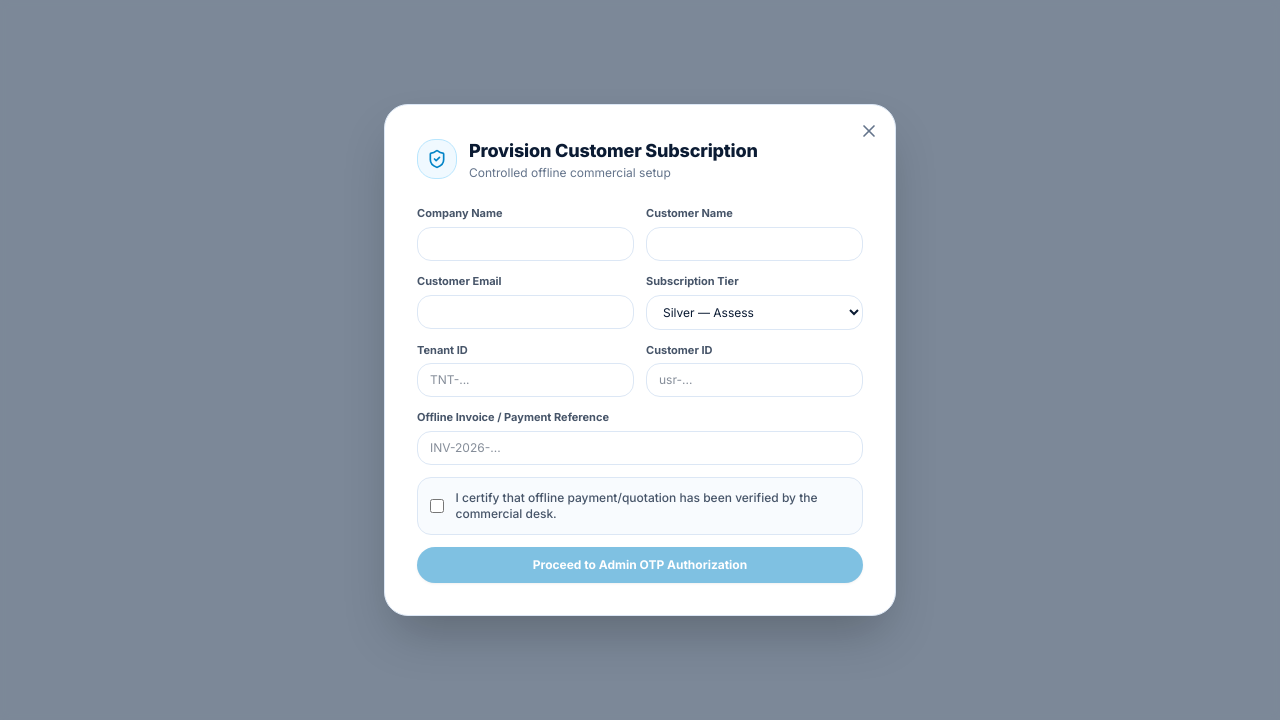
Test case: ProvisionSubscriptionModal Component › handles OTP request failure with message and non-Error throw
Click the checkbox at (437, 506), box [430,498,444,514]
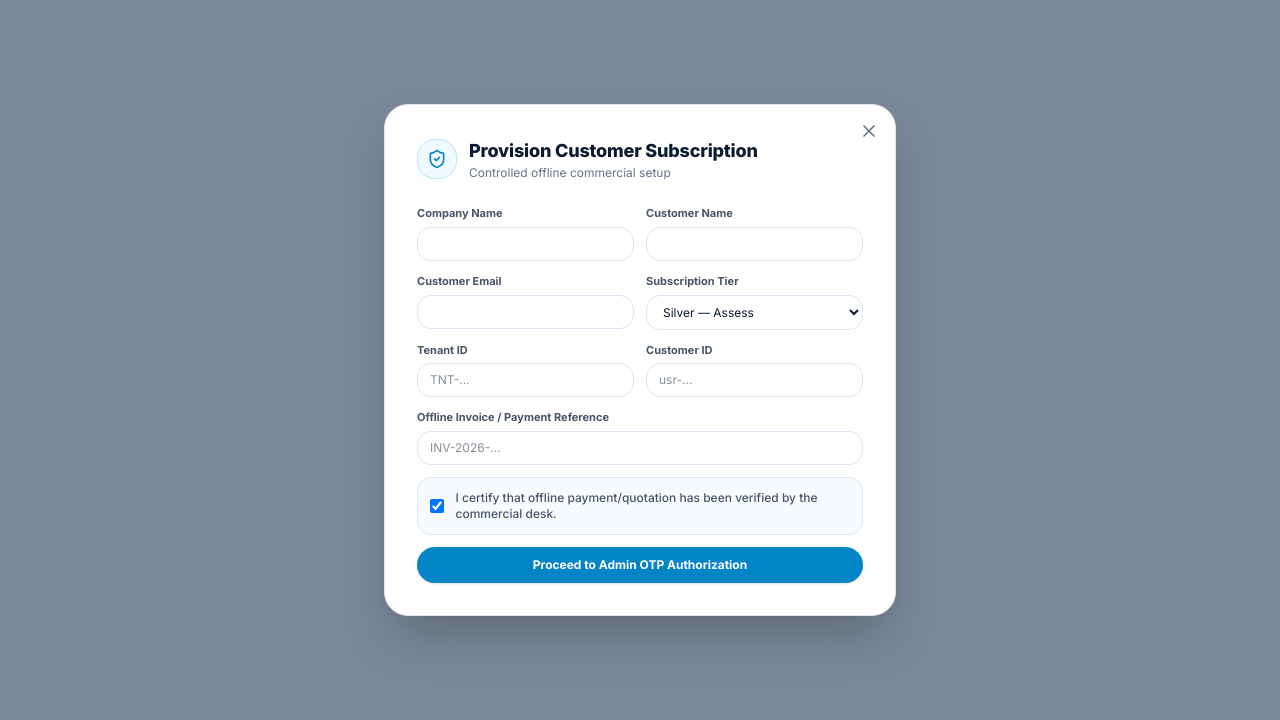
Submit the form with test id "request-admin-otp-btn", box [417,205,863,583]
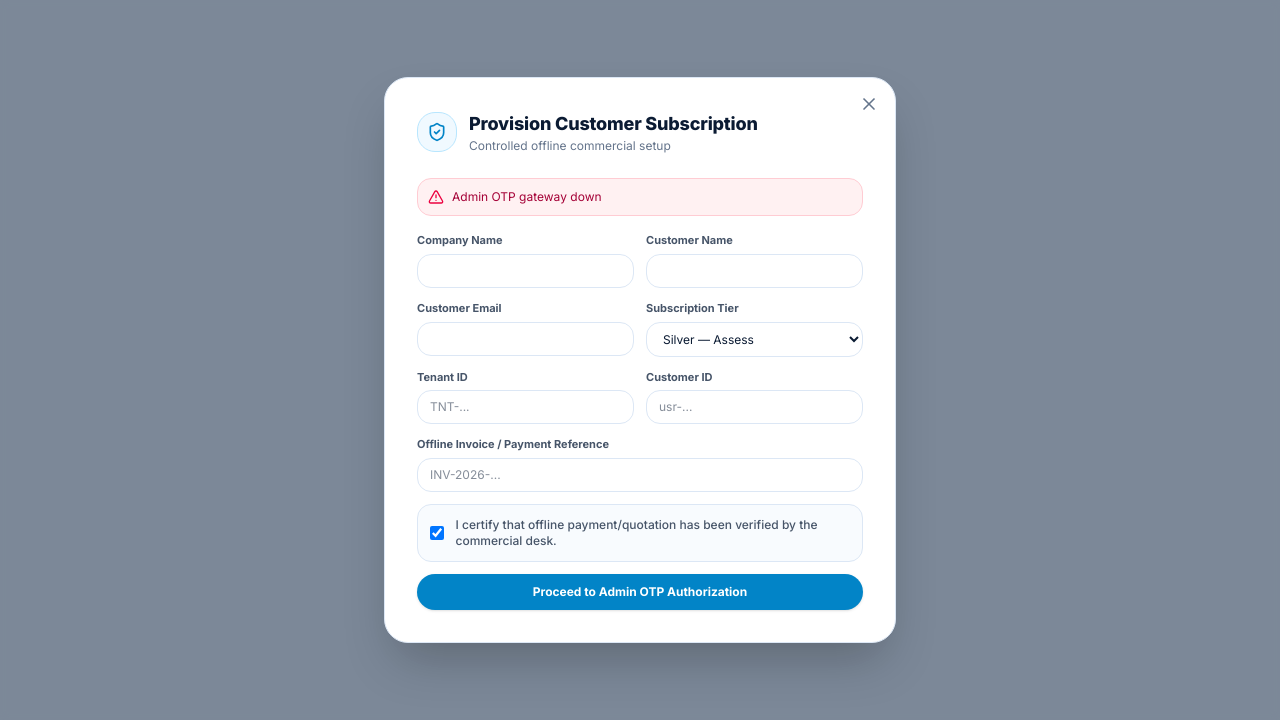
Now the text "Admin OTP gateway down" is shown, box [452,189,602,205]
Submit the form with test id "request-admin-otp-btn", box [417,232,863,610]
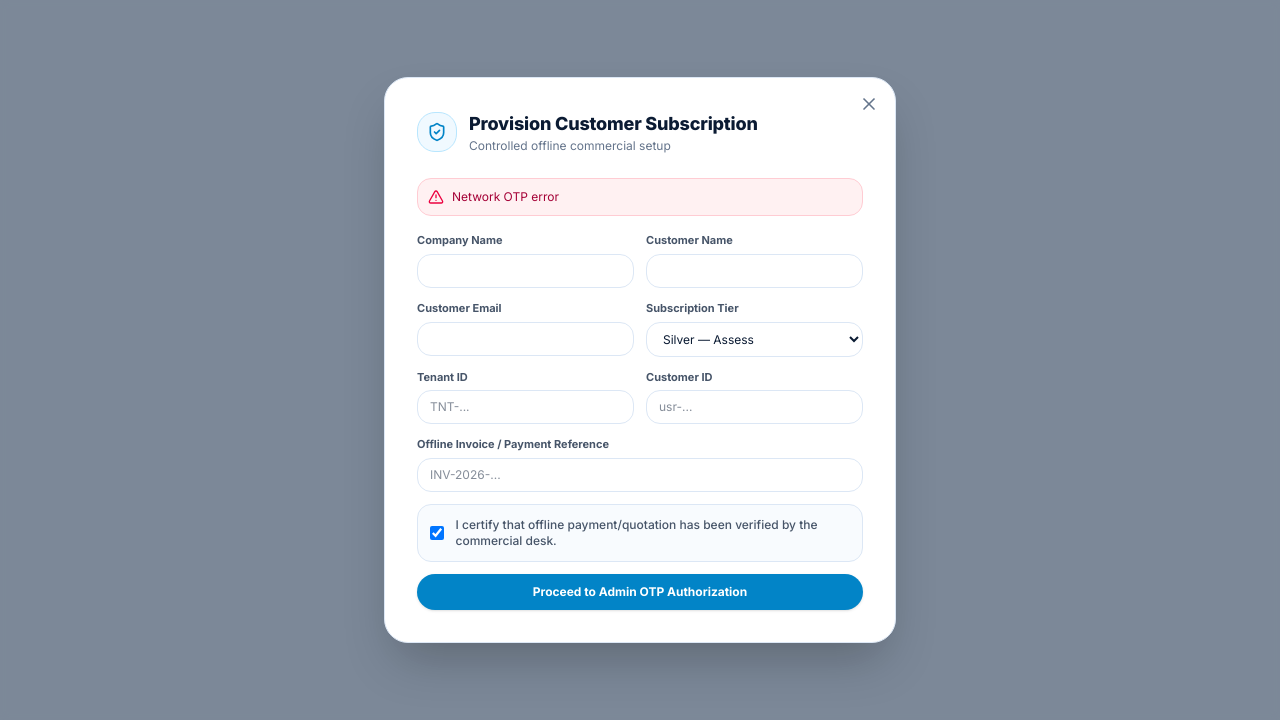
Now the text "Network OTP error" is shown, box [452,189,559,205]
